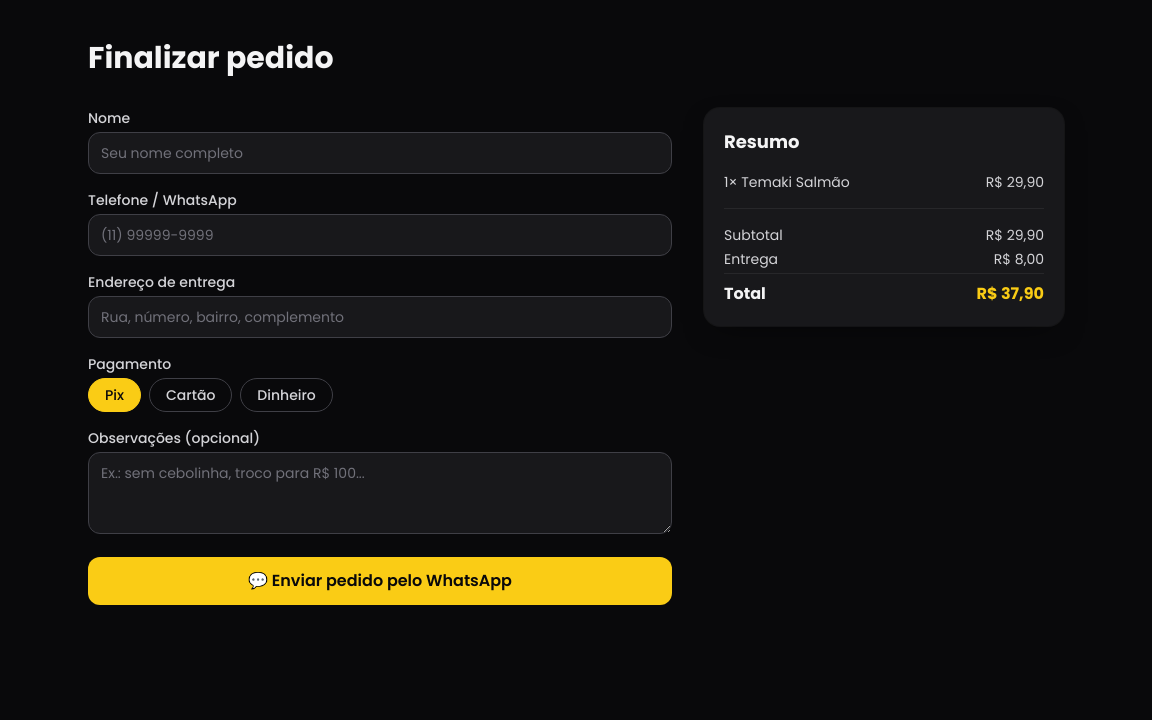
Test: <Checkout /> › blocks submission and shows errors when the form is invalid
Click the button "💬 Enviar pedido pelo WhatsApp" at x=380, y=581, box [88,557,672,605]
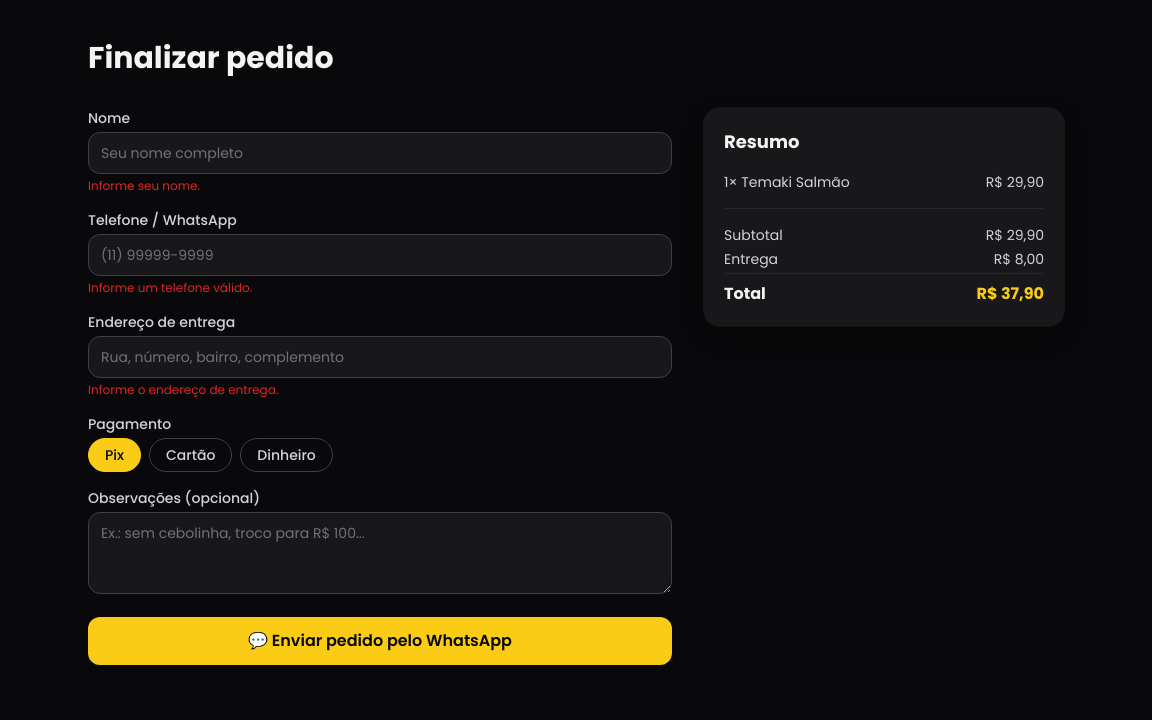
Expected: the text "Informe seu nome." is shown, [88,177,200,194]
